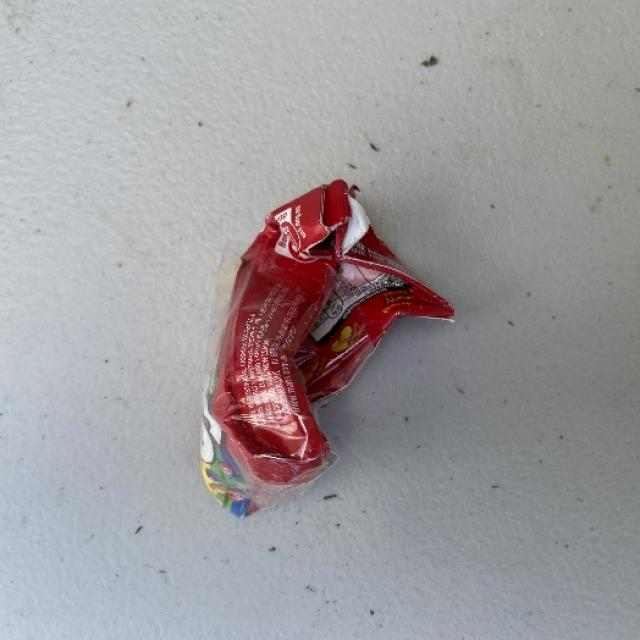kertas: (196, 178, 462, 522)
